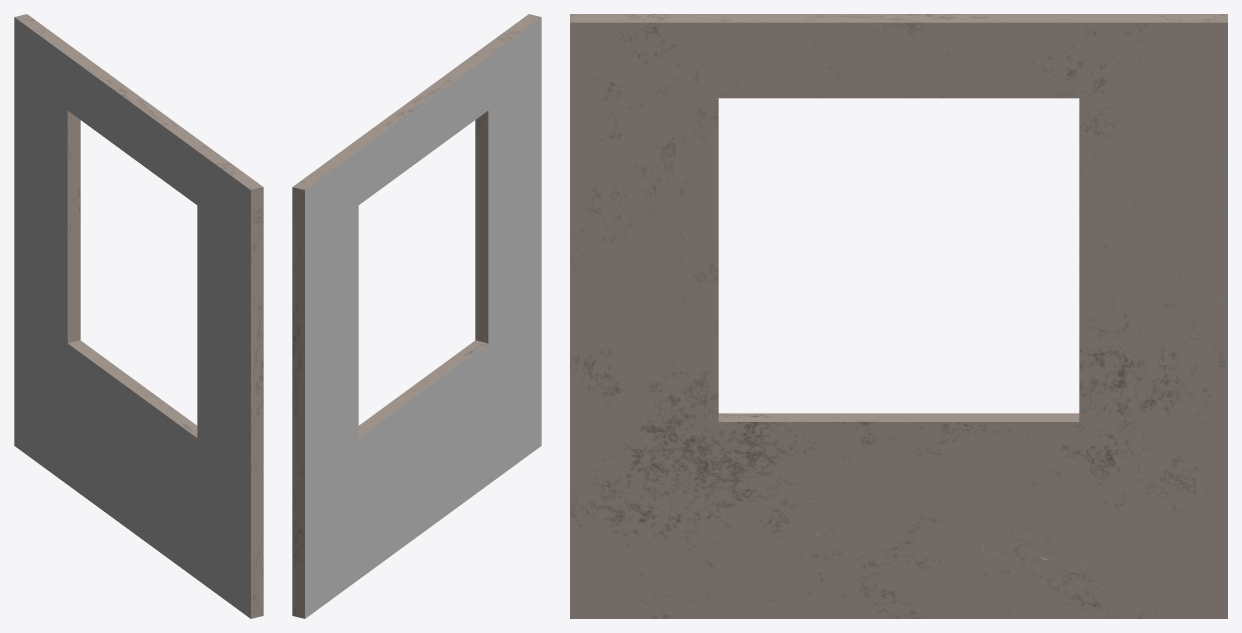
File: WallCompleteWindow.fbx
3 views of the same model, side by side, from view 1: azimuth 30°, elevation 25°; view 2: azimuth 150°, elevation 25°; view 3: azimuth 270°, elevation 25° (orthographic). The views are drawn at different scales.
Visible parts, largest first — view 1: Cube; view 2: Cube; view 3: Cube.
Boxes of the visible parts, x1,y1,x2,y2 form: Cube: (14, 14, 263, 618); Cube: (292, 14, 541, 618); Cube: (570, 14, 1227, 618).
Bounding box in the file's own units: 12.45 × 400 × 400.
